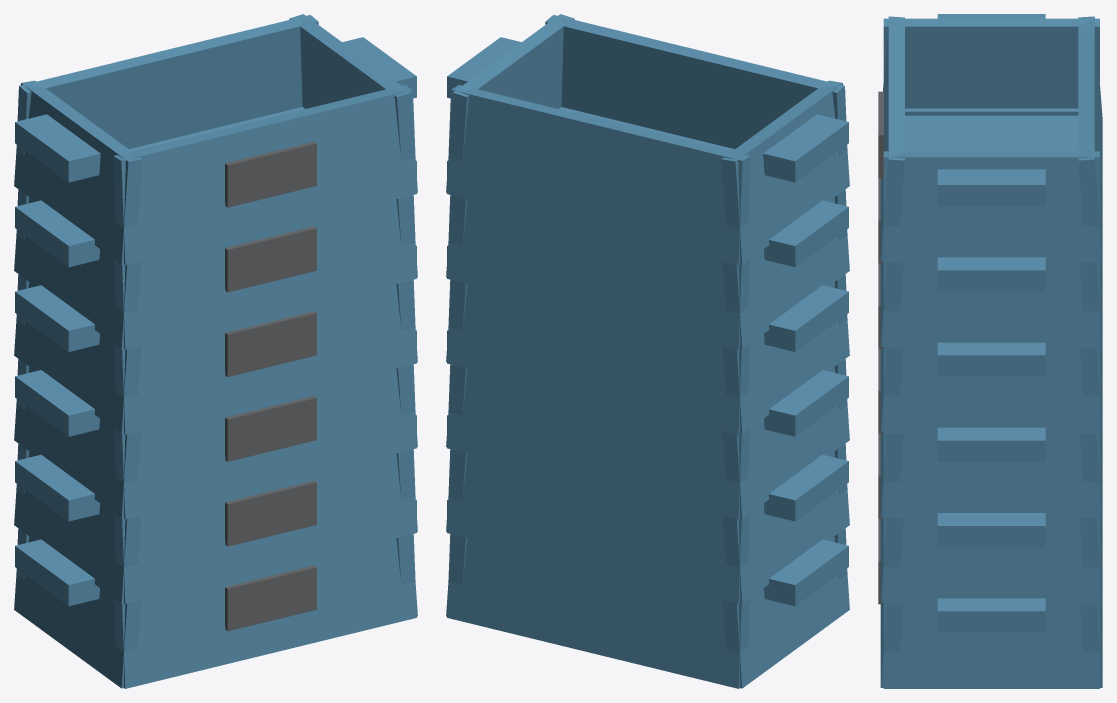
File: fish-market-and-trawler-quay-fish-market-and-trawler-q-0771b9fc__37297.glb
The picture shows the model from 3 angles, left to right: view 1: azimuth 30°, elevation 25°; view 2: azimuth 150°, elevation 25°; view 3: azimuth 270°, elevation 25°; orthographic projection.
Parts seen in each view (by area): view 1: fish-market-and-trawler-quay-fish-box-stack-blue; view 2: fish-market-and-trawler-quay-fish-box-stack-blue; view 3: fish-market-and-trawler-quay-fish-box-stack-blue.
Part boxes in pixels (box(x1,y1,x2,y2)): fish-market-and-trawler-quay-fish-box-stack-blue: box(14, 14, 417, 688); fish-market-and-trawler-quay-fish-box-stack-blue: box(446, 14, 849, 688); fish-market-and-trawler-quay-fish-box-stack-blue: box(878, 14, 1102, 688).
Size of the model in its own units: 0.86 by 1.24 by 0.4768.
